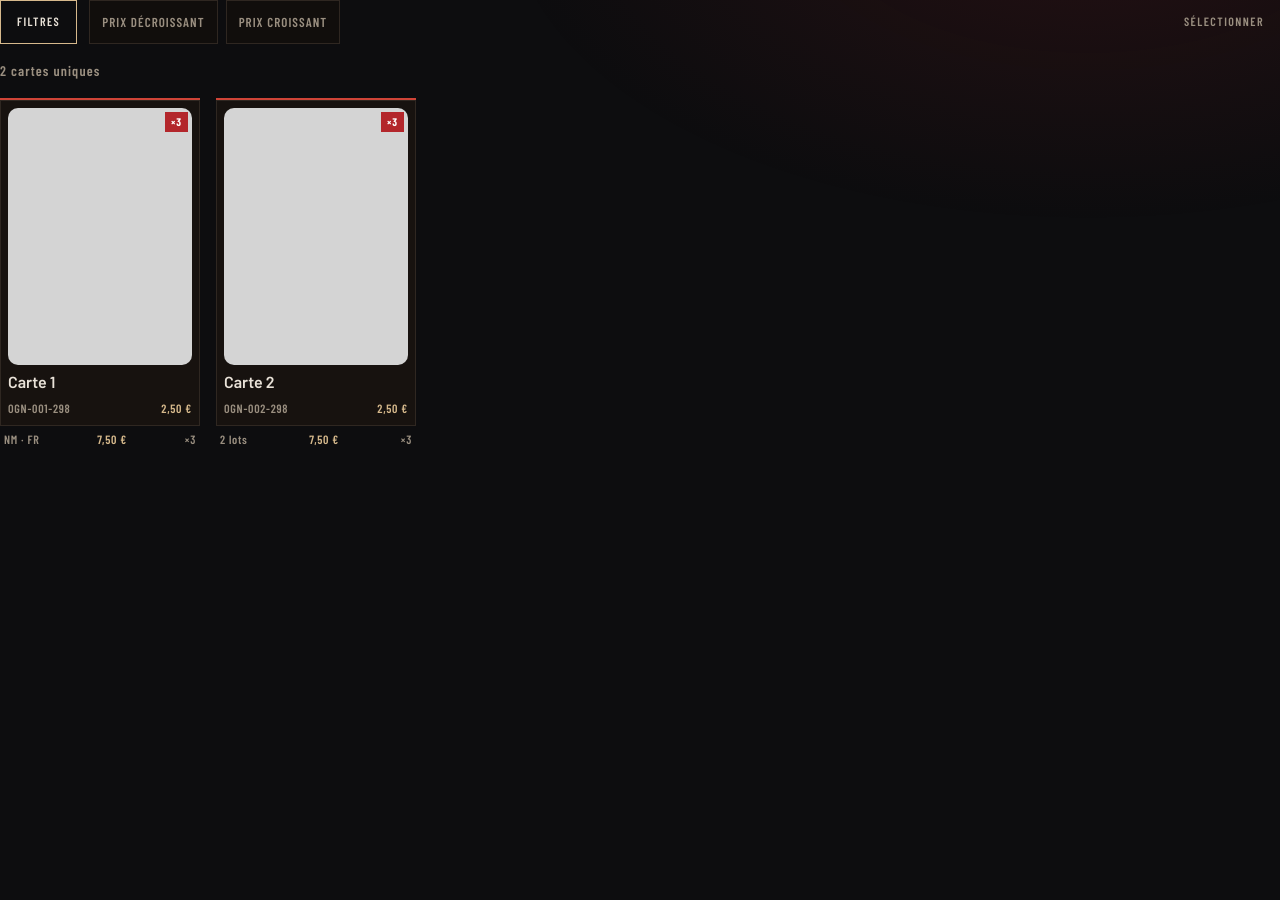
Test: CollectionInventory › retrait en échec : l'erreur reste dans la modale et la sélection est conservée
Step 1. Click the button "Sélectionner" → {"x": 1224, "y": 22}, box [1168,0,1279,44]
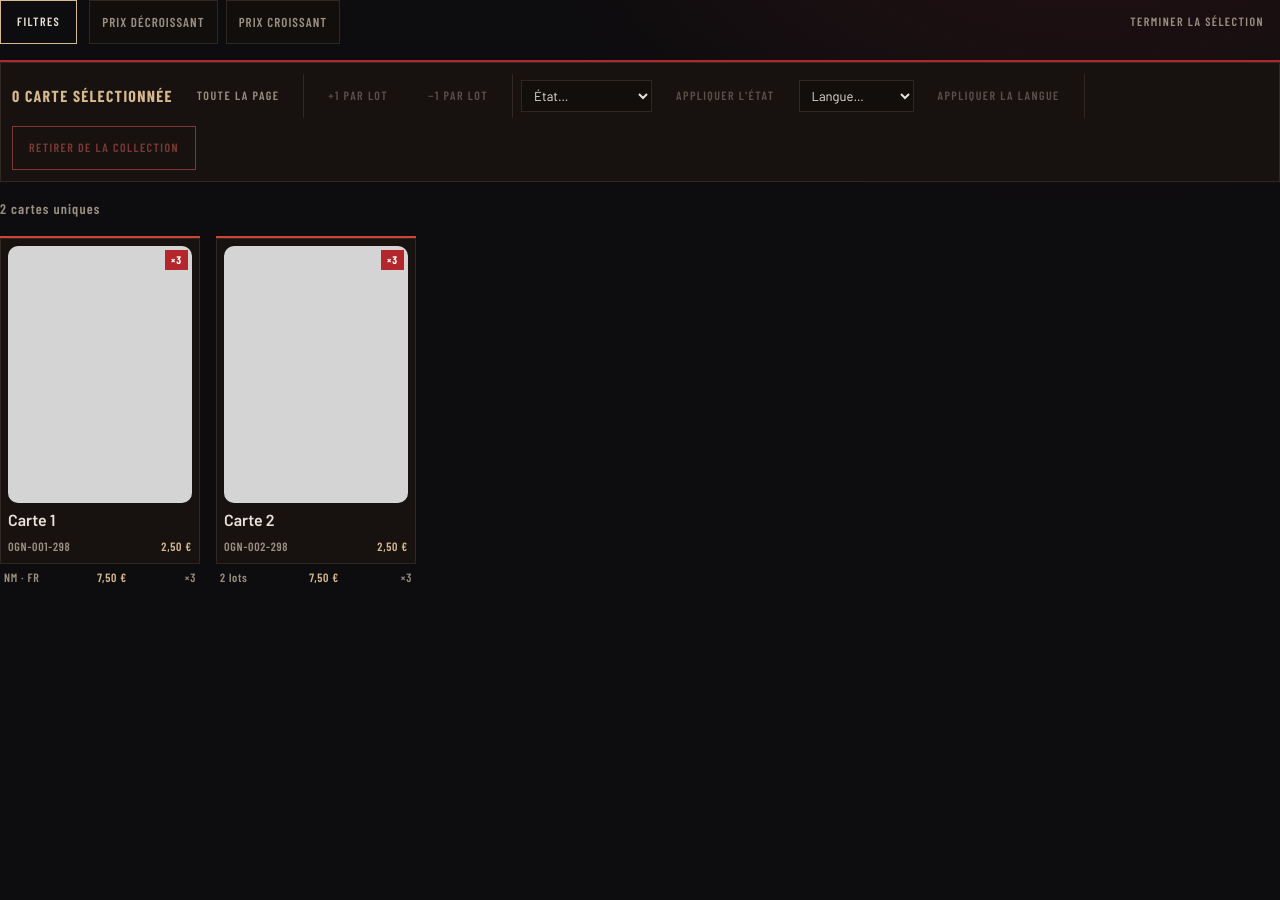
Step 2. Click the button with class "inventaire-pick" showing "×3 Carte 1 OGN-001-298 2,50 €" → {"x": 100, "y": 400}, box [0,236,200,564]
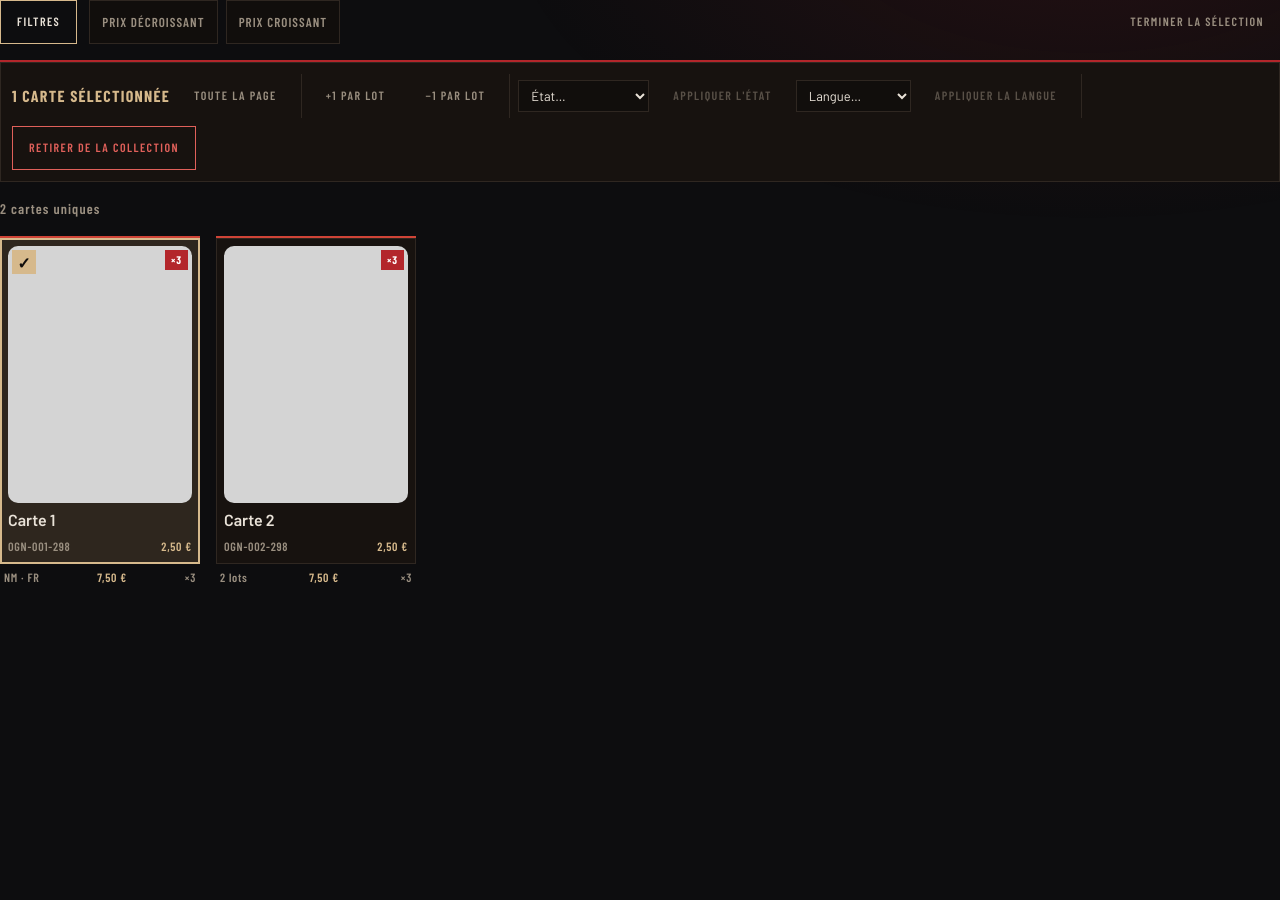
Step 3. Click the button "Retirer de la collection" → {"x": 104, "y": 148}, box [12,126,196,170]
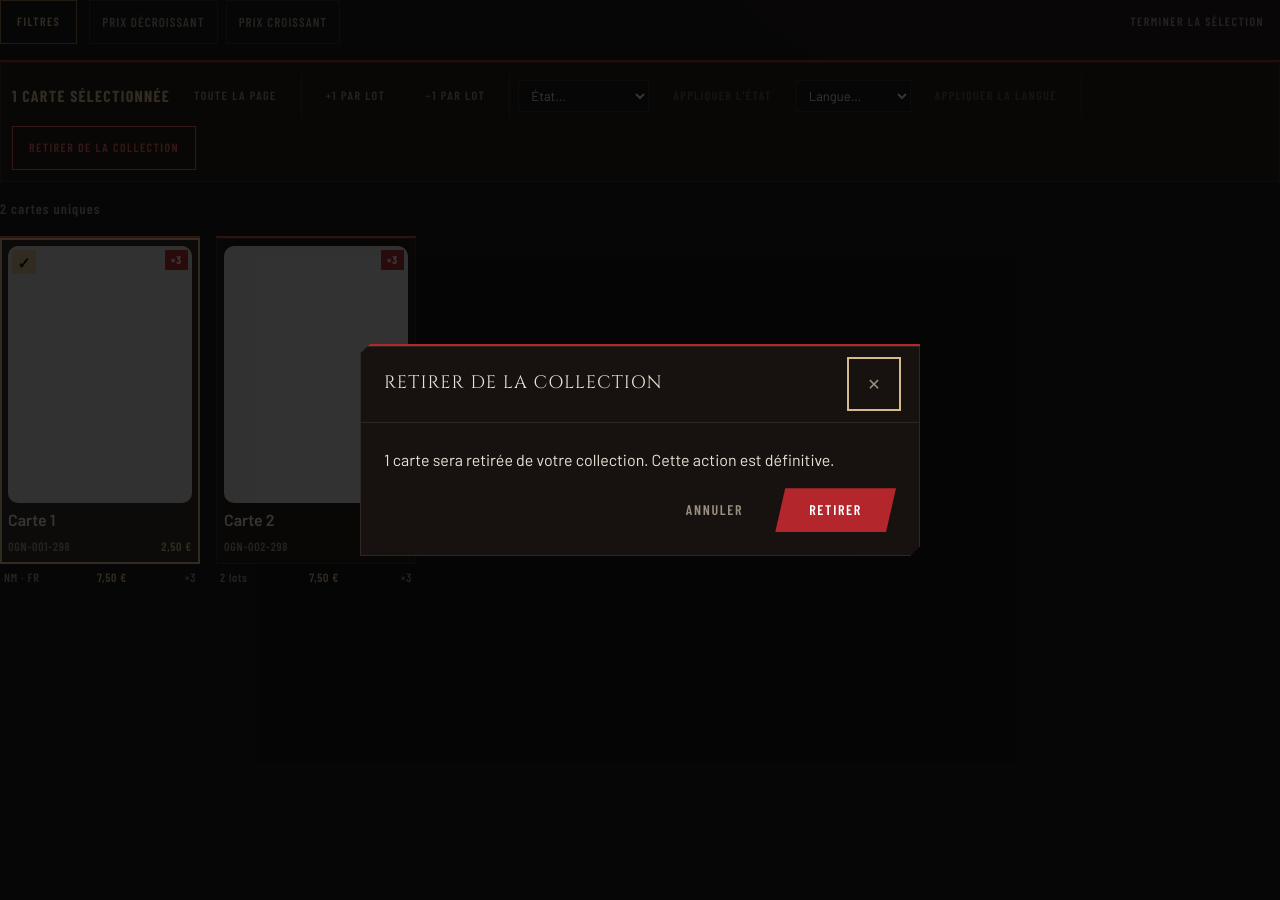
Step 4. Click the button "Retirer" → {"x": 836, "y": 510}, box [775,488,896,532]
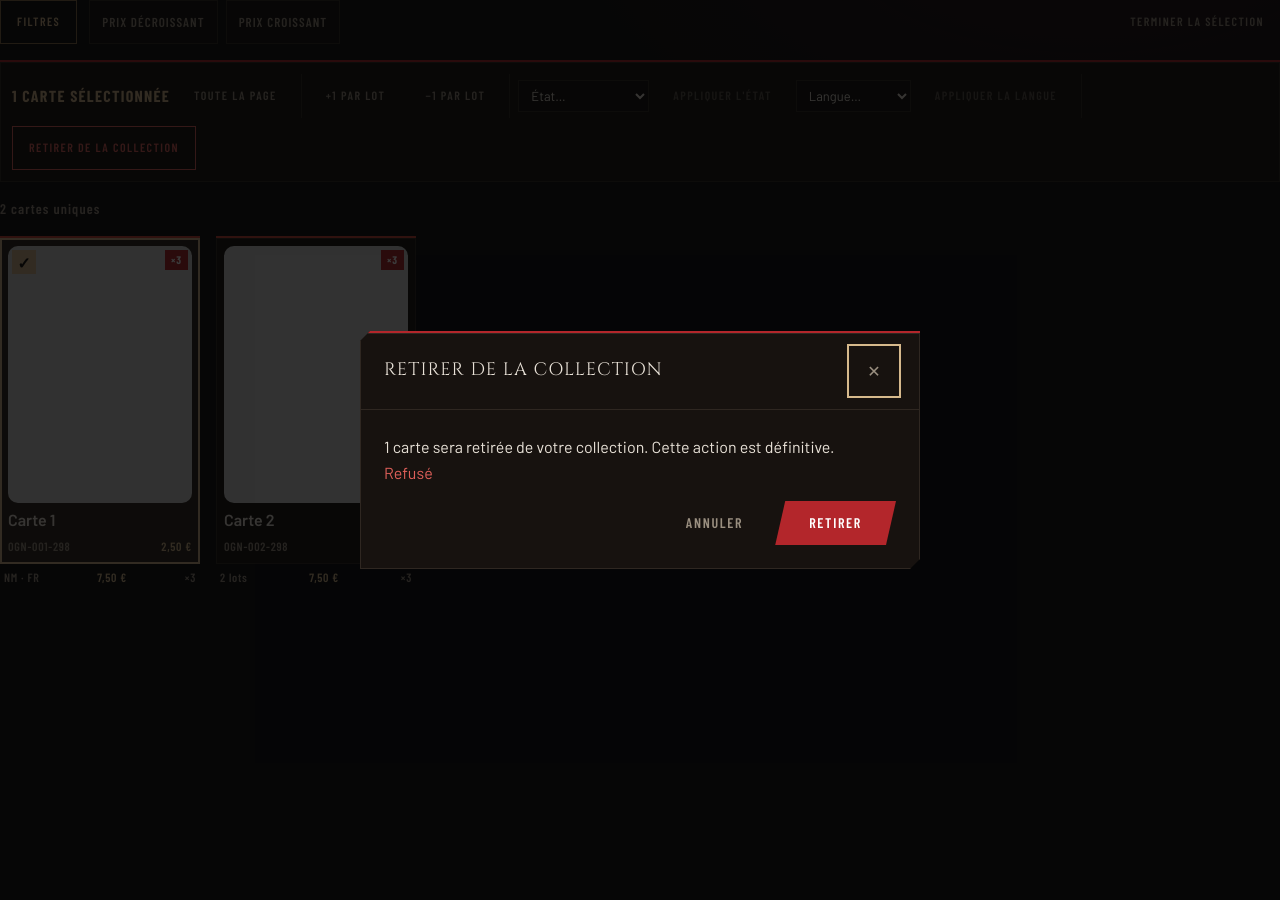
Result: the button "Retirer" is enabled at [775,501,896,545]
Result: the message with class "inventaire-error" reads "Refusé" at [384,462,433,482]
